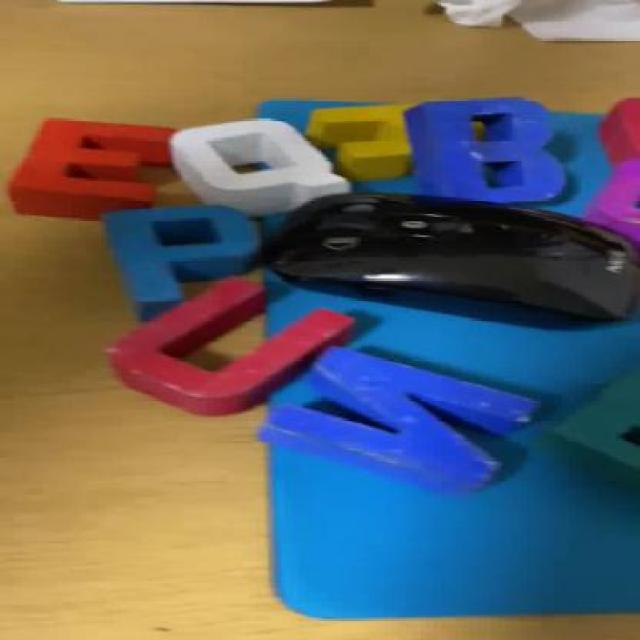B: (403, 89, 563, 218)
E: (22, 112, 190, 228)
P: (91, 208, 272, 309)
Q: (181, 119, 342, 215)
U: (118, 280, 365, 415)
